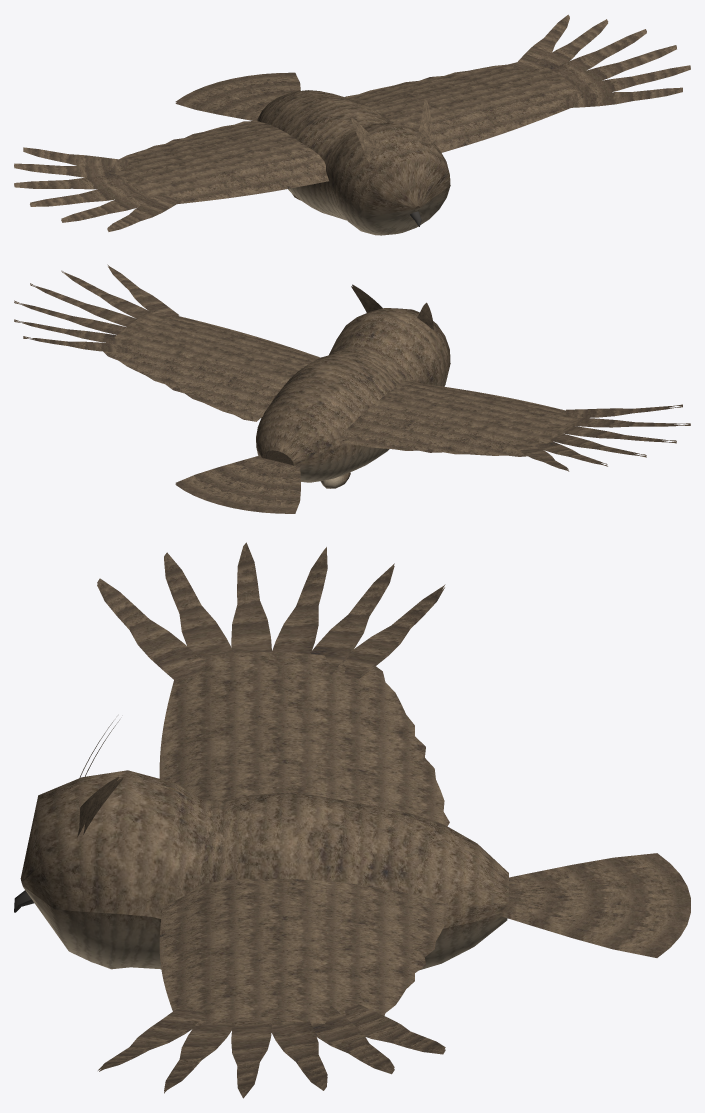
The model's file is owl.glb.
3 renders of one model, top to bottom at view 1: azimuth 30°, elevation 25°; view 2: azimuth 150°, elevation 25°; view 3: azimuth 270°, elevation 25°, orthographic. The views are drawn at different scales.
Visible parts, largest first — view 1: body, wing_L, wing_R; view 2: body, wing_L, wing_R; view 3: body, wing_R, wing_L.
Part boxes in pixels (x1=…): body: x1=175, y1=72, x2=450, y2=235; wing_L: x1=345, y1=14, x2=690, y2=152; wing_R: x1=14, y1=121, x2=328, y2=231; body: x1=175, y1=284, x2=450, y2=513; wing_L: x1=14, y1=264, x2=320, y2=421; wing_R: x1=337, y1=381, x2=690, y2=471; body: x1=20, y1=720, x2=690, y2=970; wing_R: x1=97, y1=542, x2=449, y2=826; wing_L: x1=98, y1=878, x2=449, y2=1098.
Bounding box in the file's own units: 1.21 × 0.2456 × 0.6287.
Materials: 3 (1 with a texture image).
